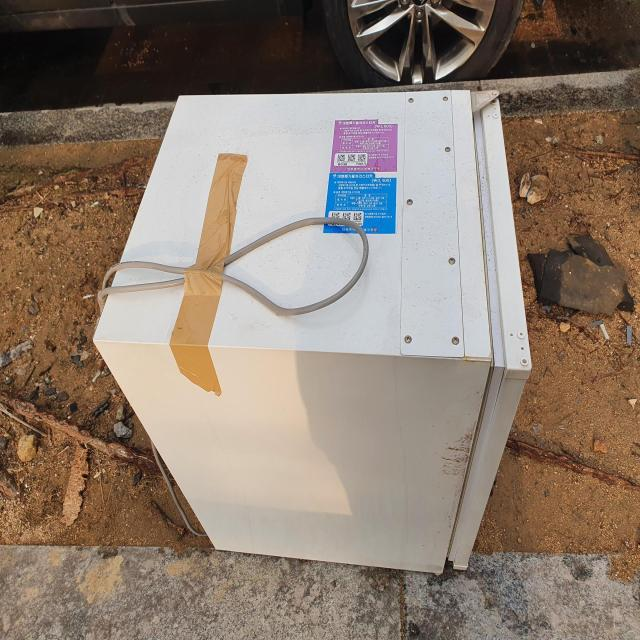refrigerator: (96, 87, 532, 582)
